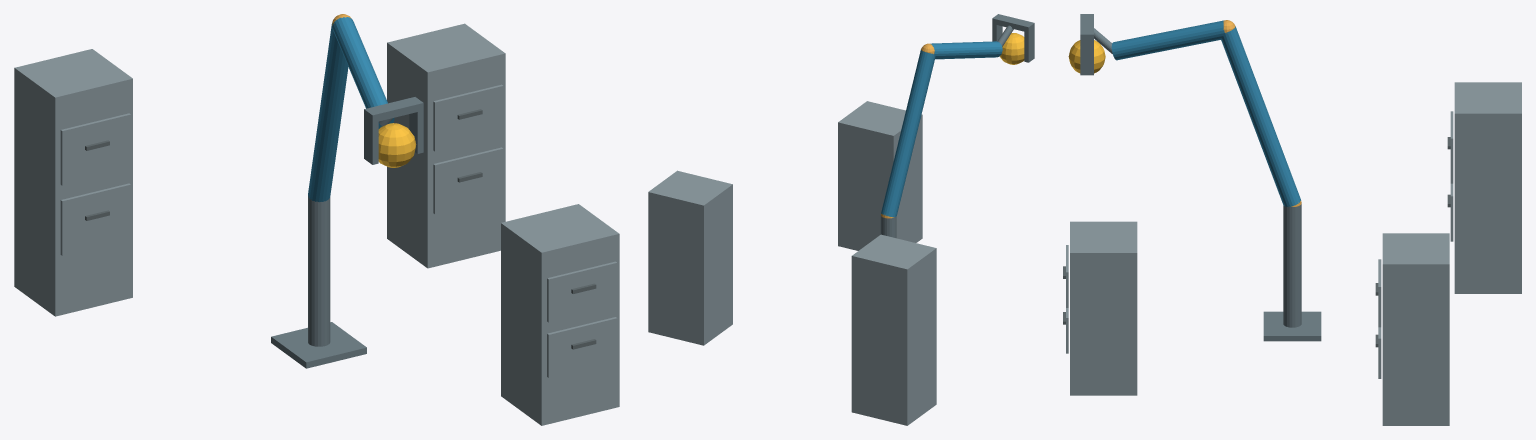
The picture shows the model from 3 angles, left to right: view 1: azimuth 30°, elevation 25°; view 2: azimuth 150°, elevation 25°; view 3: azimuth 270°, elevation 25°; orthographic projection. The views are drawn at different scales.
Visible parts, largest first — view 1: cabinet_3 body, cabinet_1 body, cabinet_2 body, cabinet_3 drawer front, cabinet_3 drawer front.001, moving link 1, cabinet_2 drawer front.001, cabinet_2 drawer front, fixed post, cabinet_1 drawer front.001, cabinet_1 drawer front, pedestal (+4 smaller); view 2: cabinet_3 body, cabinet_2 body, cabinet_1 body, moving link 1, moving link 2, ball ball_1, gripper bridge; view 3: cabinet_3 body, cabinet_2 body, cabinet_1 body, moving link 1, fixed post, moving link 2, pedestal, ball ball_1, gripper finger 1.
Boxes of the visible parts, x1,y1,x2,y2 form: cabinet_3 body: (14, 49, 132, 316); cabinet_1 body: (501, 204, 619, 425); cabinet_2 body: (387, 23, 505, 268); cabinet_3 drawer front: (60, 183, 130, 255); cabinet_3 drawer front.001: (60, 113, 130, 185); moving link 1: (308, 23, 348, 202); cabinet_2 drawer front.001: (433, 84, 503, 151); cabinet_2 drawer front: (433, 147, 503, 214); fixed post: (308, 197, 330, 346); cabinet_1 drawer front.001: (547, 261, 617, 322); cabinet_1 drawer front: (547, 317, 617, 377); pedestal: (271, 322, 366, 368); cabinet_3 body: (851, 234, 936, 425); cabinet_2 body: (648, 170, 732, 345); cabinet_1 body: (838, 101, 922, 250); moving link 1: (881, 50, 935, 217); moving link 2: (930, 41, 1002, 59); ball ball_1: (999, 33, 1024, 64); gripper bridge: (992, 14, 1034, 32); cabinet_3 body: (1454, 82, 1521, 293); cabinet_2 body: (1382, 233, 1449, 425); cabinet_1 body: (1070, 221, 1137, 395); moving link 1: (1221, 26, 1300, 207); fixed post: (1283, 204, 1301, 327); moving link 2: (1111, 20, 1224, 60); pedestal: (1263, 311, 1321, 341); ball ball_1: (1068, 40, 1105, 73); gripper finger 1: (1080, 40, 1093, 75).
Size of the model in its own units: 1.67 by 1.44 by 1.98.
